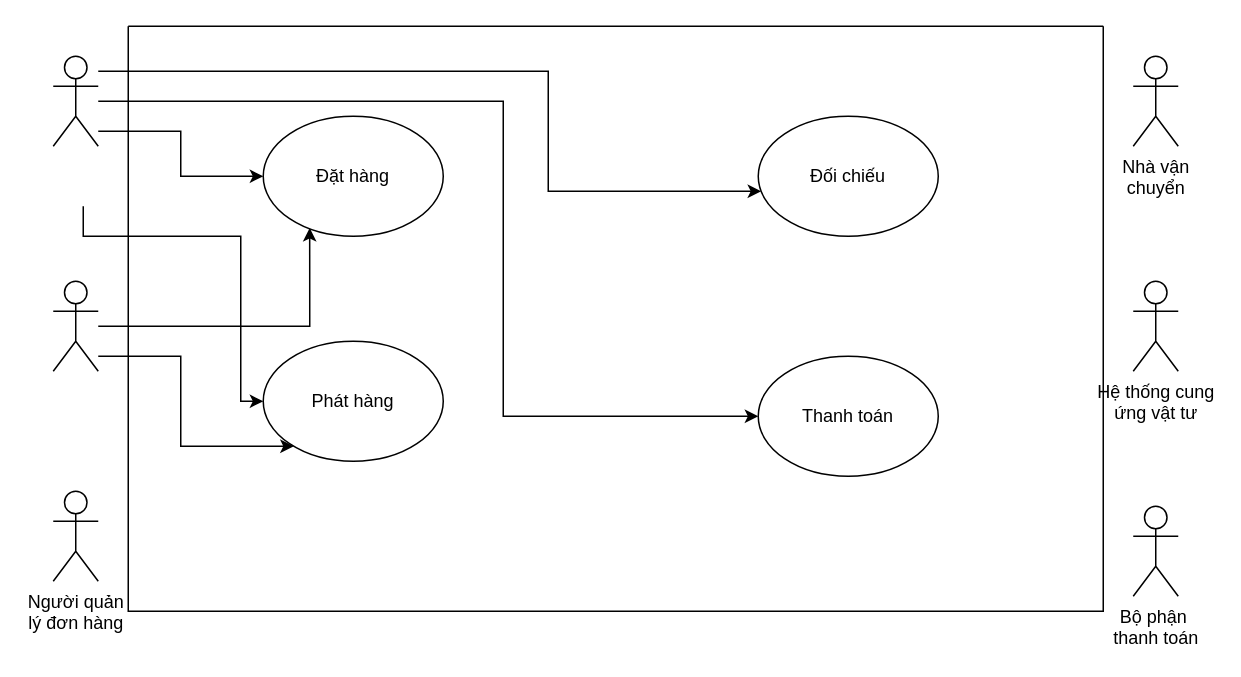
This 1241x677 diagram has some shape labels left out. Here are the shapes that lost their labels. From the top down, the centre of each, then its label:
At (x=75, y=100): "NCC".
At (x=75, y=325): "Phân xưởng".
